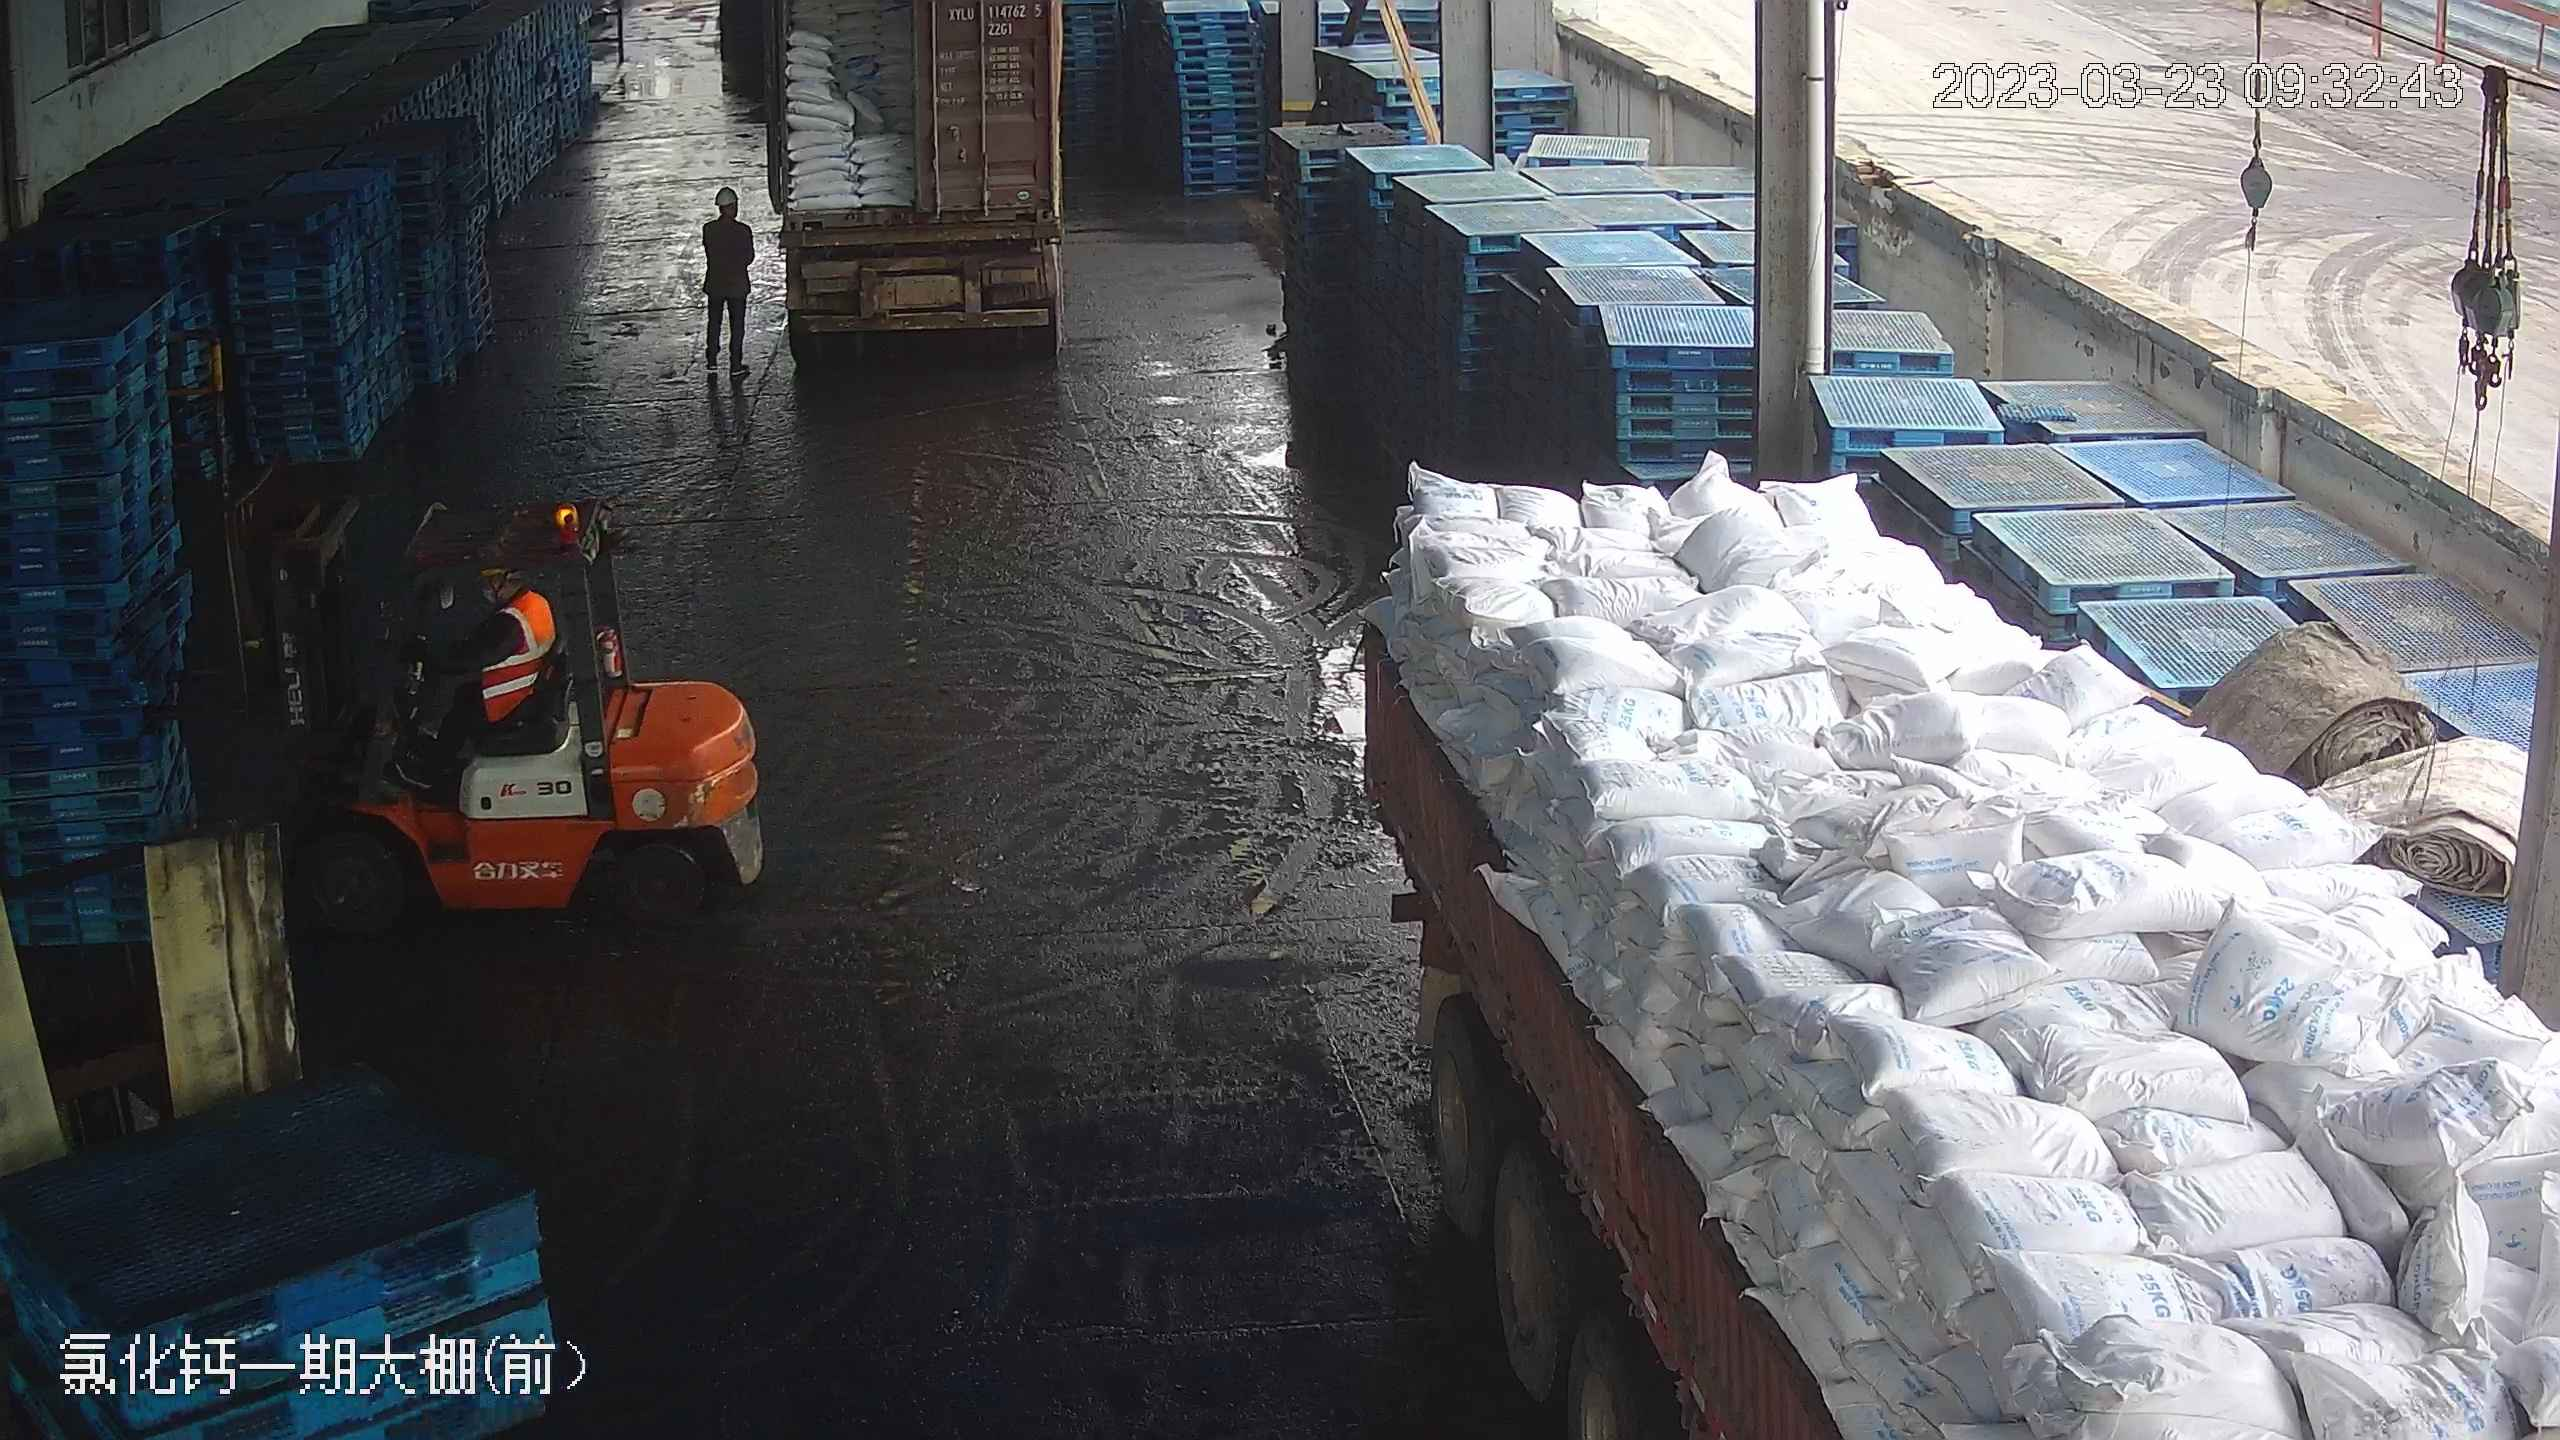head: (468, 562, 547, 644), (704, 186, 753, 244)
helmet: (713, 184, 741, 208)
people: (404, 562, 553, 768), (696, 190, 760, 385)
truck: (1298, 463, 2551, 1437), (723, 0, 1085, 340)
